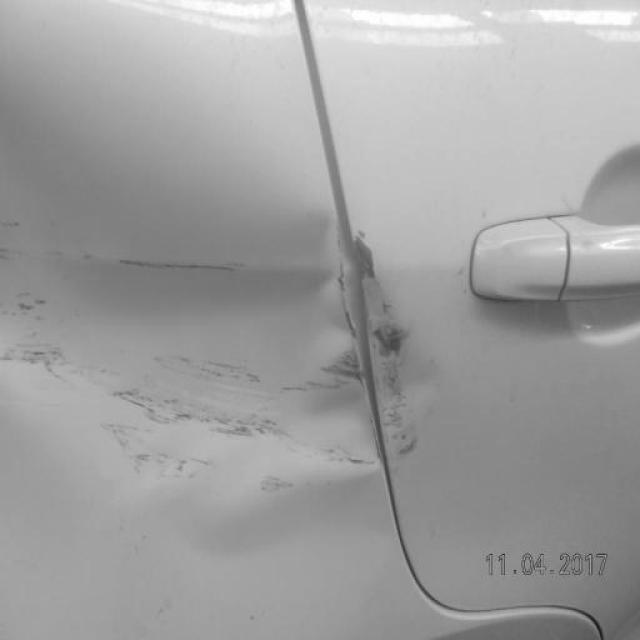dent: (4, 211, 424, 485)
scratch: (97, 235, 419, 469), (92, 417, 215, 491), (43, 248, 255, 282), (0, 293, 66, 383), (259, 474, 298, 499)
